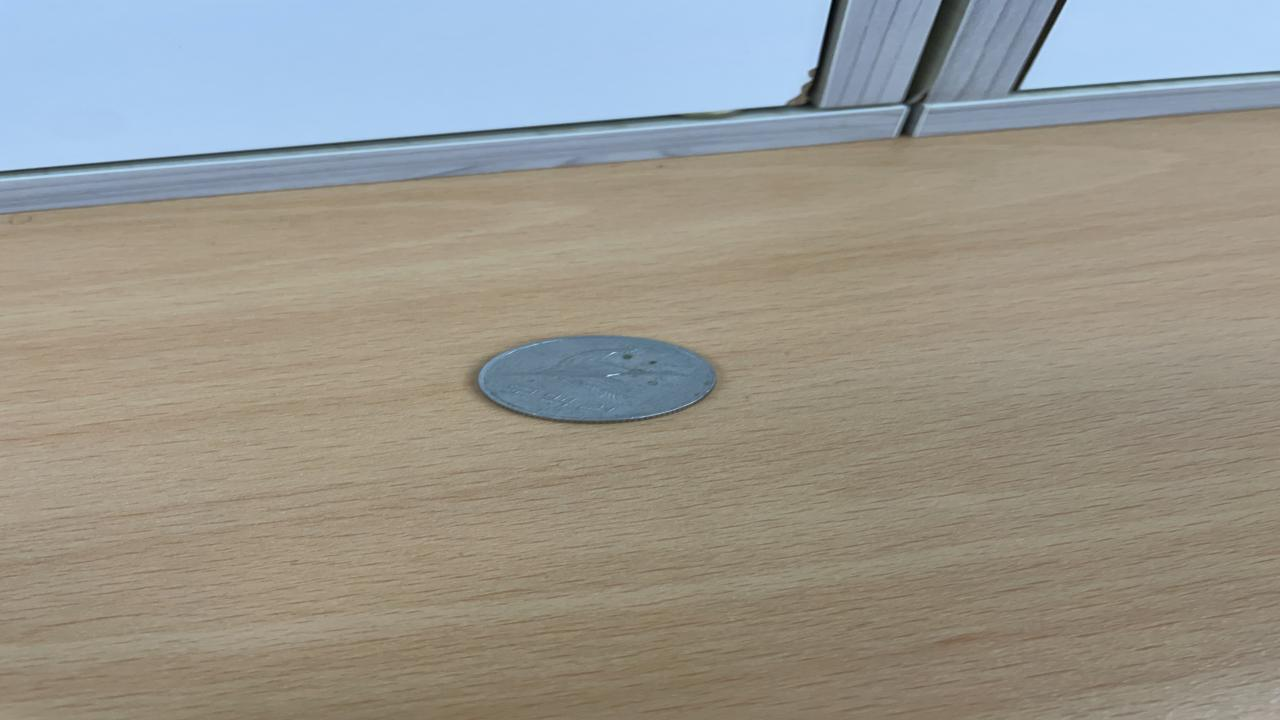coin: (467, 331, 726, 425)
